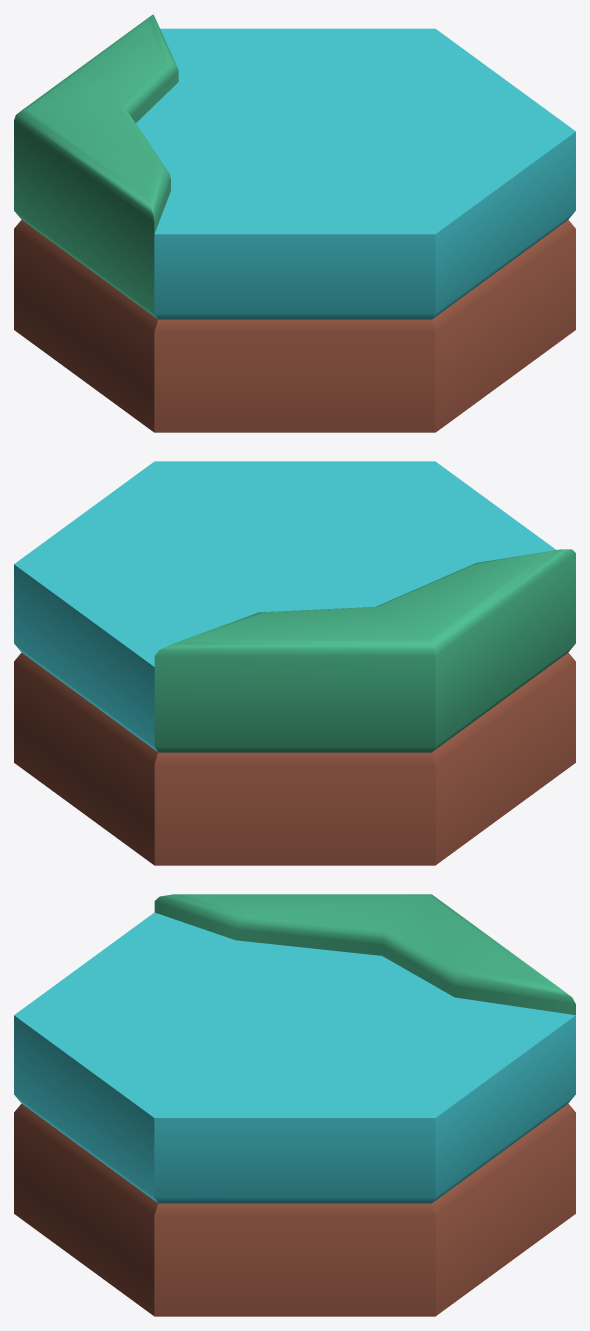
File: hex_forest_waterA_detail.glb
3 views of the same model, one above another, from view 1: azimuth 30°, elevation 25°; view 2: azimuth 150°, elevation 25°; view 3: azimuth 270°, elevation 25° (orthographic).
Visible parts, largest first — view 1: hex_forest_waterA_detail; view 2: hex_forest_waterA_detail; view 3: hex_forest_waterA_detail.
Boxes of the visible parts, <box> form: hex_forest_waterA_detail: <box>14,14,575,432</box>; hex_forest_waterA_detail: <box>14,461,575,865</box>; hex_forest_waterA_detail: <box>14,894,575,1316</box>.
Size of the model in its own units: 2 by 1 by 2.31.
